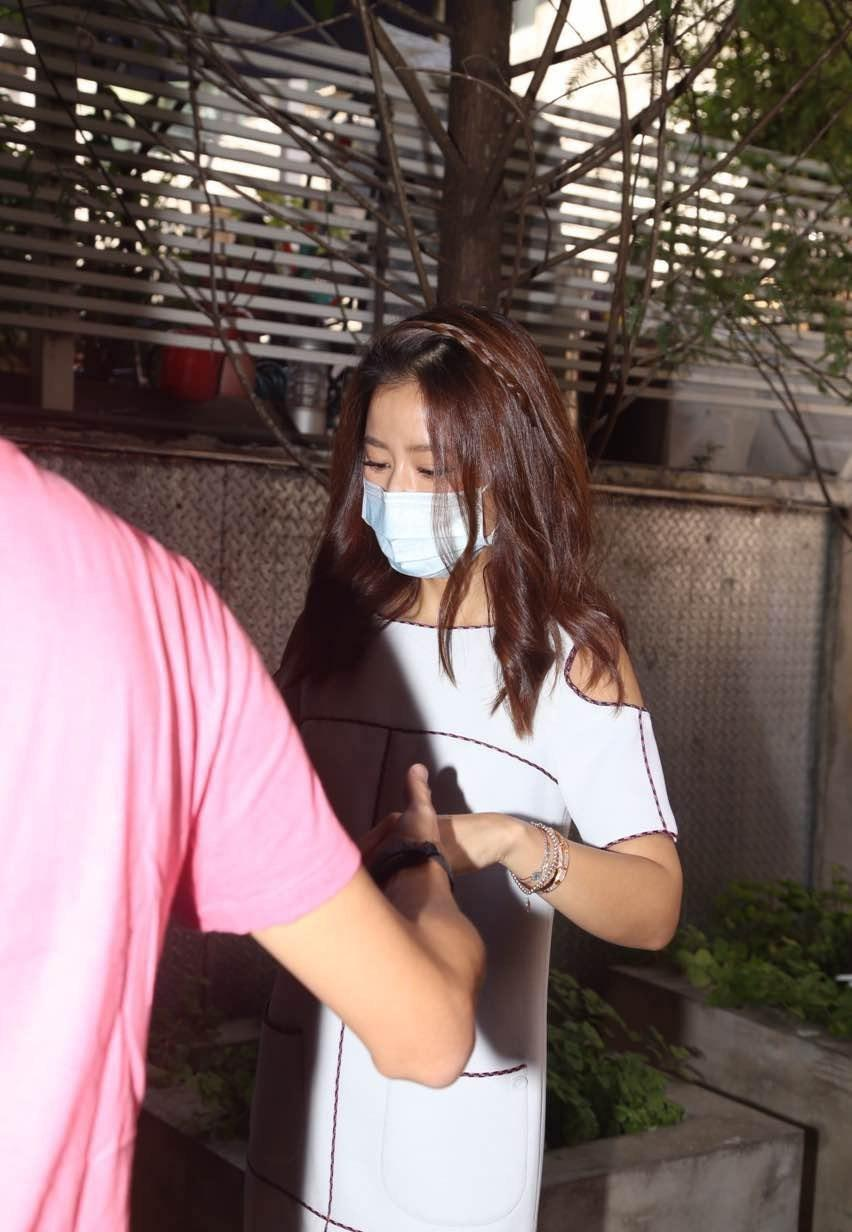OK: (360, 423, 499, 576)
